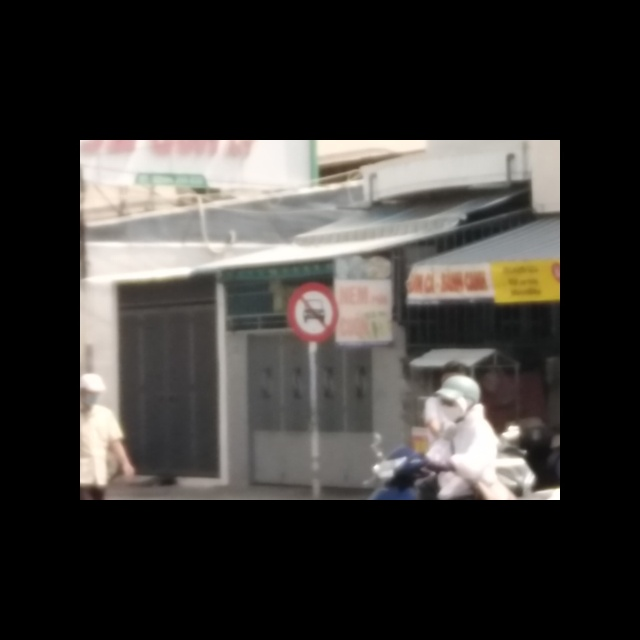Cấm xe ô tô: (287, 283, 339, 344)
